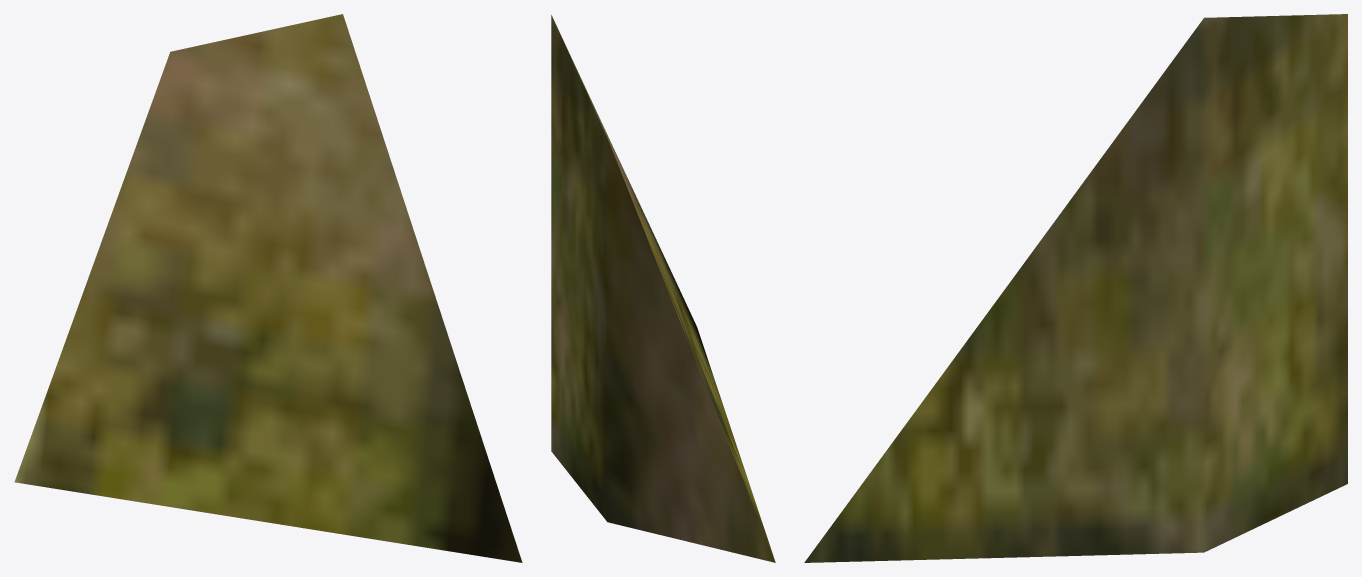
Rendered from OVERHILL_A_01_OBJECT218.fbx.
3 views of the same model, side by side, from view 1: azimuth 30°, elevation 25°; view 2: azimuth 150°, elevation 25°; view 3: azimuth 270°, elevation 25° (orthographic). The views are drawn at different scales.
Visible parts, largest first — view 1: OVERHILL_A_01_OBJECT218; view 2: OVERHILL_A_01_OBJECT218; view 3: OVERHILL_A_01_OBJECT218.
Part boxes in pixels (x1=…): OVERHILL_A_01_OBJECT218: x1=14, y1=14, x2=522, y2=562; OVERHILL_A_01_OBJECT218: x1=551, y1=15, x2=775, y2=562; OVERHILL_A_01_OBJECT218: x1=804, y1=14, x2=1347, y2=562.
Size of the model in its own units: 2322 by 3328 by 3030.
1 material, 1 textured.
